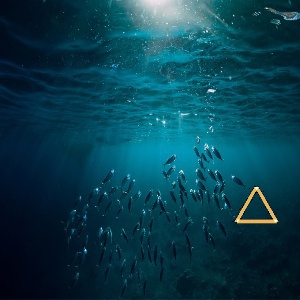triangle: (230, 183, 280, 226)
